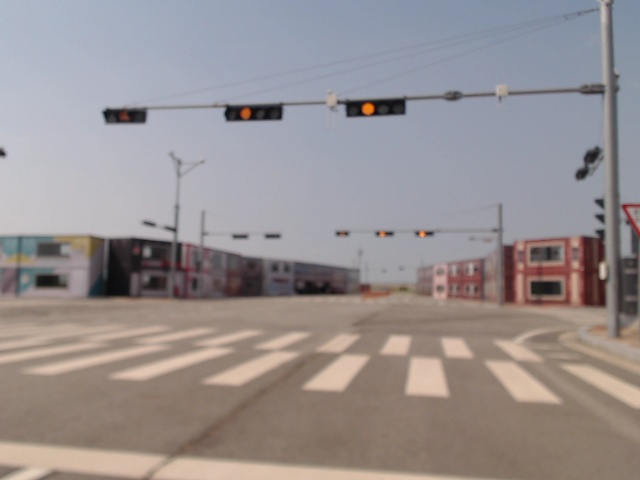orange_4: (344, 99, 403, 117), (226, 106, 284, 120)
